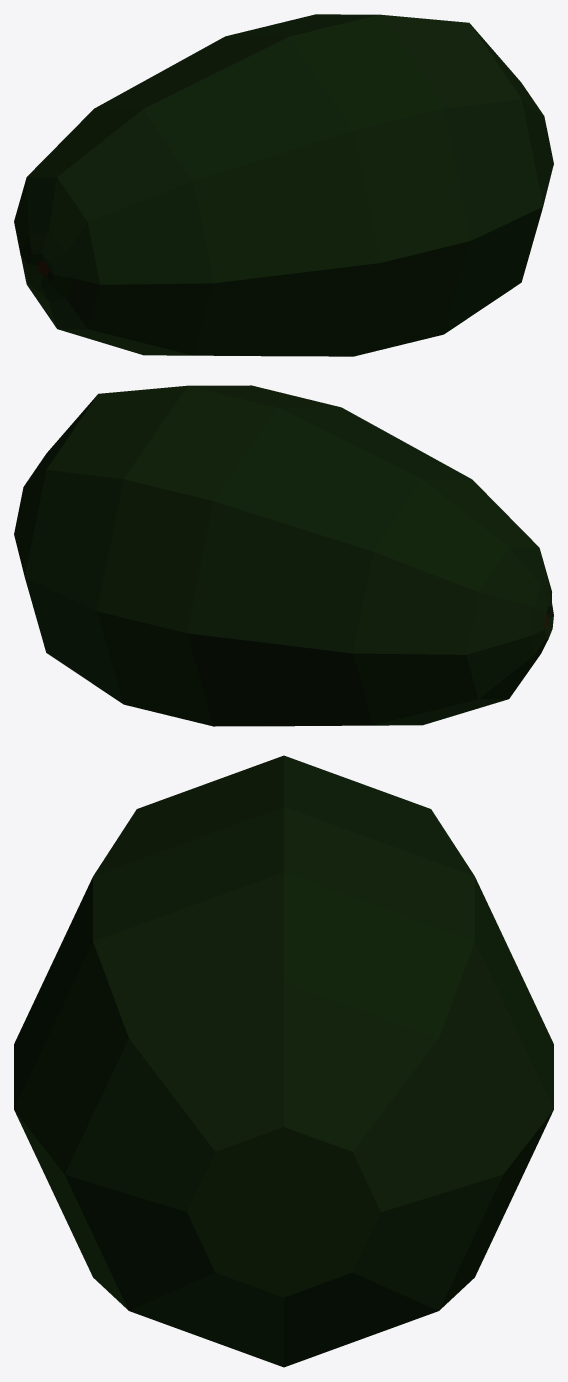
The model's file is avocado01.gltf.
3 renders of one model, top to bottom at view 1: azimuth 30°, elevation 25°; view 2: azimuth 150°, elevation 25°; view 3: azimuth 270°, elevation 25°, orthographic. The views are drawn at different scales.
Parts seen in each view (by area): view 1: Cylinder.001; view 2: Cylinder.001; view 3: Cylinder.001.
Boxes of the visible parts, <box> form: Cylinder.001: <box>14,14,553,356</box>; Cylinder.001: <box>14,385,553,726</box>; Cylinder.001: <box>14,755,553,1367</box>.
Size of the model in its own units: 0.0928 by 0.0571 by 0.0588.
Materials: 1 (1 with a texture image).
